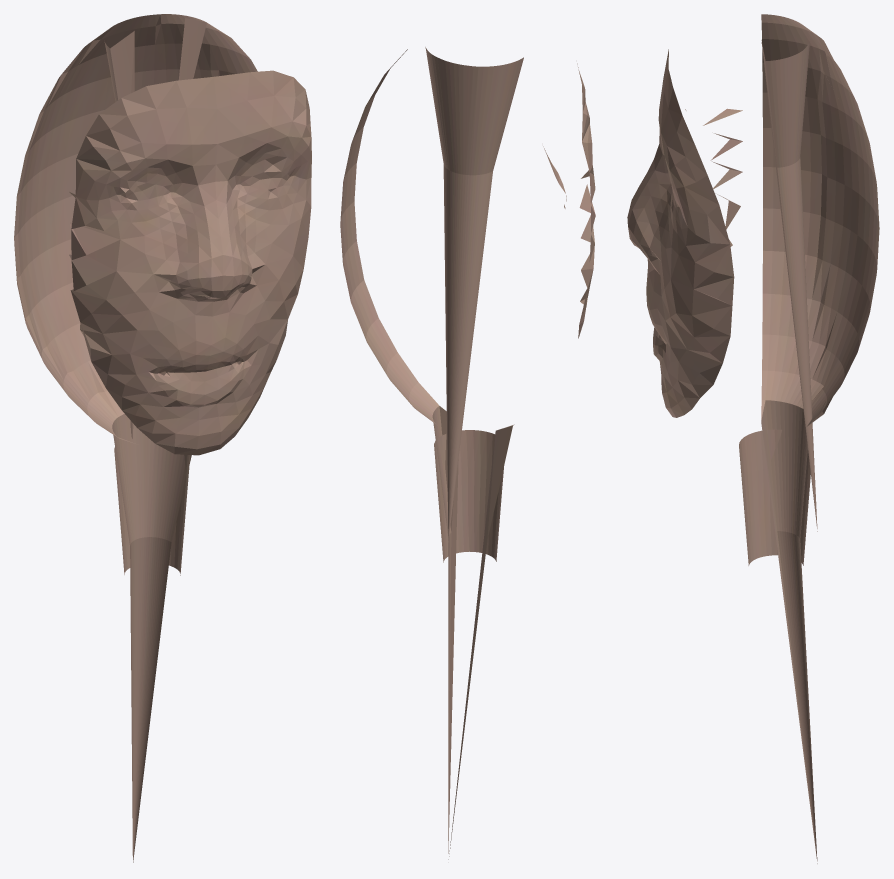
3 views of the same model, side by side, from view 1: azimuth 30°, elevation 25°; view 2: azimuth 150°, elevation 25°; view 3: azimuth 270°, elevation 25° (orthographic). The views are drawn at different scales.
Parts seen in each view (by area): view 1: world; view 2: world; view 3: world.
Boxes of the visible parts, bbox=[...] form: world: bbox=[14, 14, 311, 862]; world: bbox=[340, 47, 595, 859]; world: bbox=[627, 14, 879, 863].
Size of the model in its own units: 0.0941 by 0.2988 by 0.0815.
